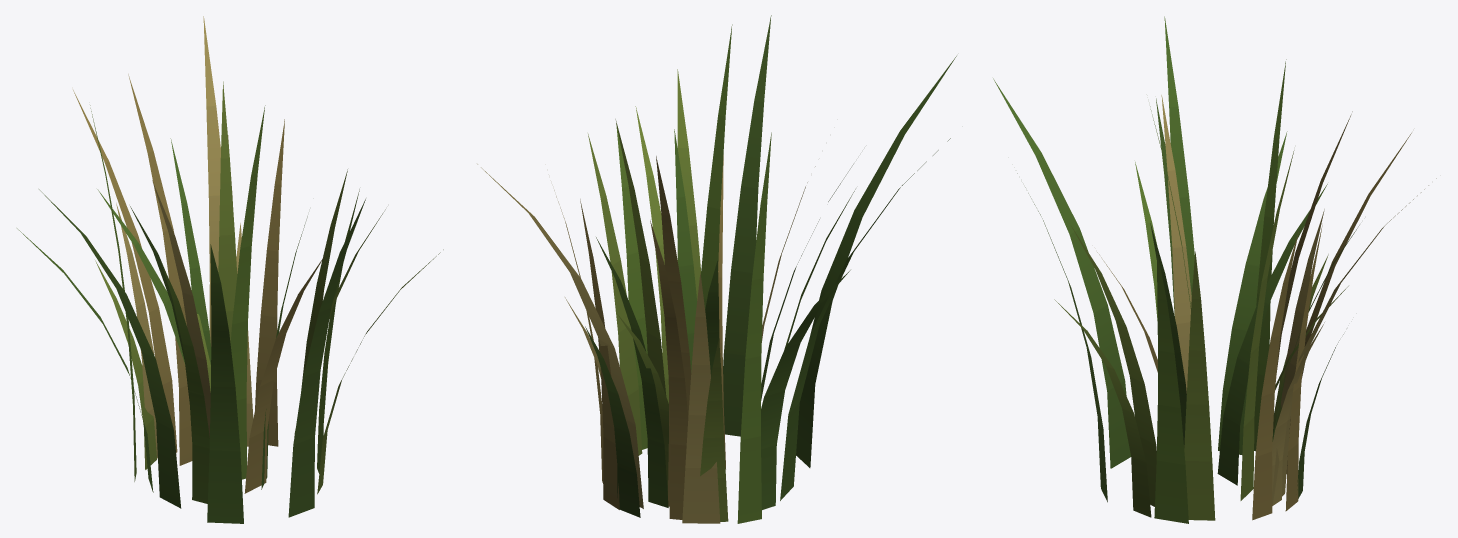
File: grass_tuft.glb
The picture shows the model from 3 angles, left to right: view 1: azimuth 30°, elevation 25°; view 2: azimuth 150°, elevation 25°; view 3: azimuth 270°, elevation 25°; orthographic projection. The views are drawn at different scales.
Visible parts, largest first — view 1: grass_tuft; view 2: grass_tuft; view 3: grass_tuft.
Boxes of the visible parts, x1,y1,x2,y2 form: grass_tuft: (17, 16, 443, 523); grass_tuft: (477, 15, 956, 523); grass_tuft: (993, 16, 1436, 523).
Bounding box in the file's own units: 0.4874 × 0.5193 × 0.5331.
